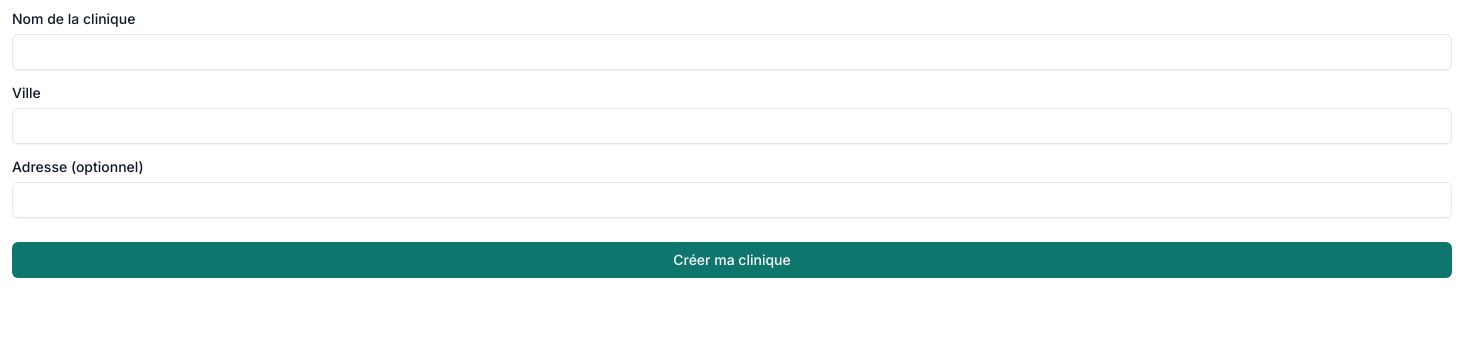
it: CreateClinicForm › rejects an empty name and city
Click the button "Créer ma clinique": (732, 260) [12,242,1452,278]
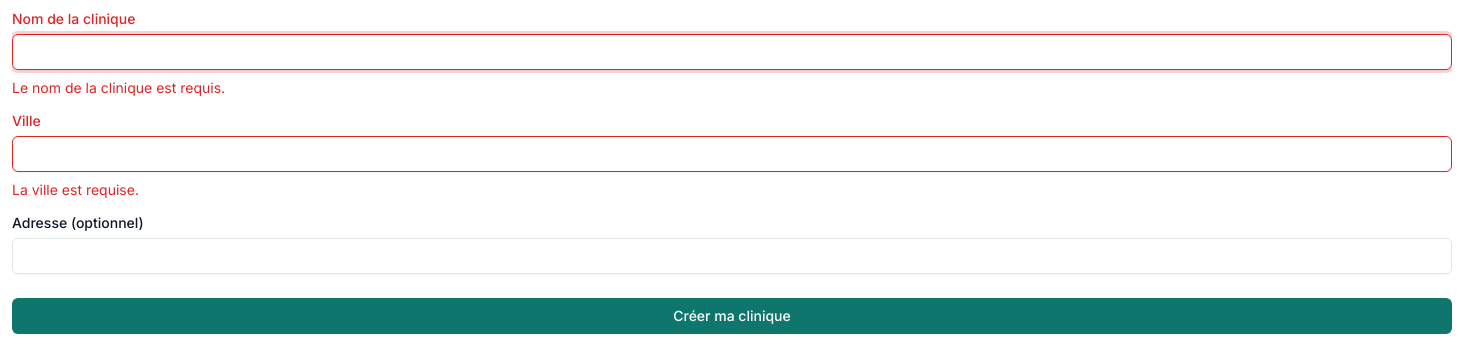
Now the text "Le nom de la clinique est requis." is shown, box [12,79,225,96]
Now the text "La ville est requise." is shown, box [12,181,139,198]
